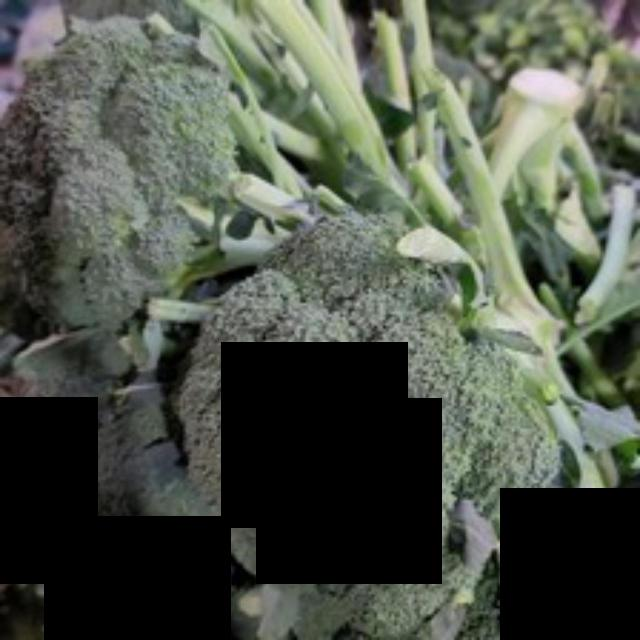broccoli: (178, 209, 550, 622)
